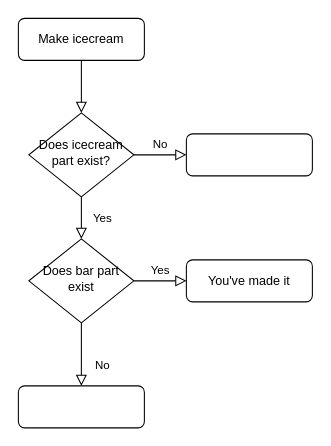
The diagram is 331 pixels wide and 446 high, and some of its shapes have lost their labels. Here are the shapes that lost their labels. From the top down, the box of each, then its label:
(185, 133, 312, 176): Recall icecream part
(17, 385, 144, 428): Recall barpart
